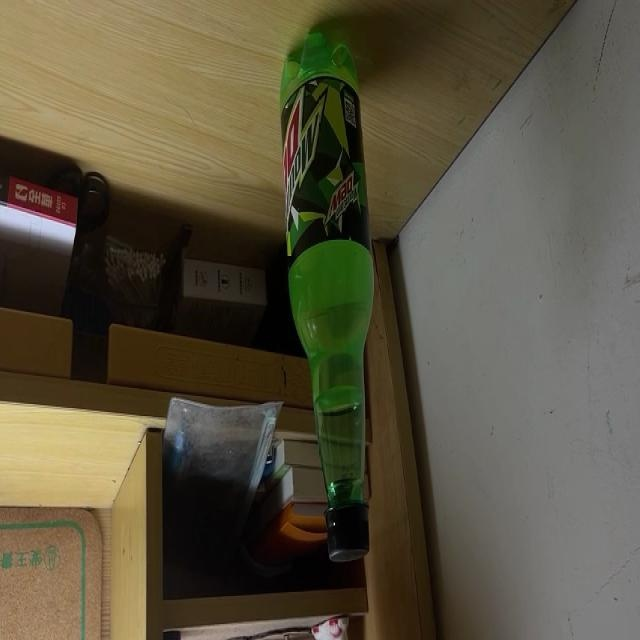Mountain-Dew: (280, 29, 376, 569)
